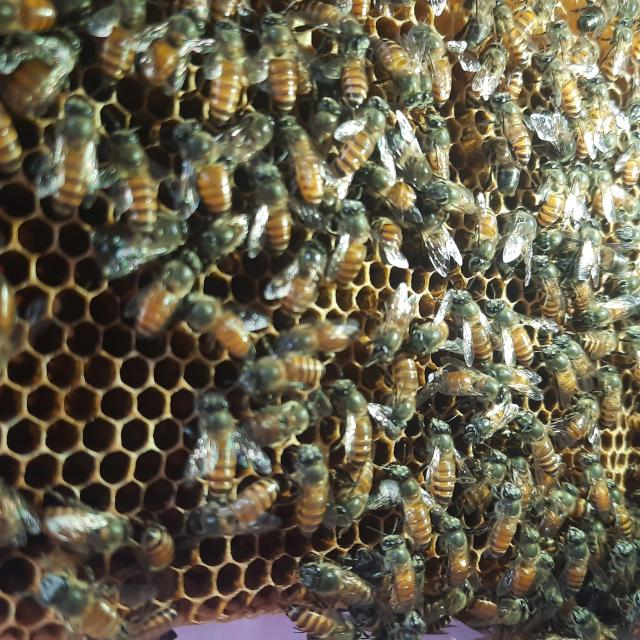honeybee: (122, 247, 219, 343), (0, 20, 92, 114), (226, 389, 327, 460), (167, 117, 235, 221), (103, 130, 169, 234), (140, 3, 210, 98), (251, 10, 314, 114), (49, 94, 99, 220), (200, 13, 252, 125), (84, 0, 144, 95), (540, 19, 596, 119), (191, 479, 277, 541), (42, 576, 120, 640), (281, 113, 327, 218), (197, 392, 239, 504), (421, 418, 466, 522), (200, 301, 266, 369), (402, 207, 458, 287), (498, 523, 556, 600), (284, 0, 366, 53), (252, 162, 298, 254), (292, 449, 340, 537), (268, 239, 317, 324), (448, 287, 498, 370), (316, 31, 370, 107), (331, 196, 372, 295), (331, 108, 384, 184), (570, 452, 621, 529), (329, 381, 374, 468), (486, 298, 538, 372), (299, 559, 377, 608), (54, 506, 127, 558), (396, 469, 440, 554), (454, 448, 505, 521), (410, 24, 455, 103), (328, 451, 374, 528), (270, 317, 354, 359), (374, 533, 421, 608), (361, 288, 408, 362), (221, 111, 277, 172), (242, 355, 322, 397), (404, 578, 470, 628), (491, 90, 534, 166), (552, 530, 600, 598), (373, 40, 420, 109), (436, 514, 476, 593), (383, 115, 429, 183), (516, 414, 566, 476), (450, 0, 495, 67), (410, 177, 478, 221), (462, 198, 498, 279), (537, 55, 588, 112), (552, 390, 602, 448), (532, 477, 582, 535), (488, 488, 530, 557), (542, 344, 583, 412), (572, 220, 606, 301), (498, 207, 534, 281), (491, 3, 531, 69), (0, 489, 40, 552), (602, 471, 638, 541), (422, 114, 457, 184), (287, 606, 359, 640), (484, 361, 540, 404), (534, 157, 564, 237), (0, 0, 61, 38), (463, 398, 513, 444), (469, 594, 536, 628), (597, 362, 632, 427), (386, 356, 415, 433), (0, 278, 25, 364), (426, 371, 497, 401), (0, 100, 28, 175), (540, 261, 575, 321), (604, 21, 638, 82), (568, 98, 602, 158), (607, 540, 640, 601), (470, 37, 500, 104), (487, 138, 522, 194), (409, 43, 438, 110), (560, 334, 596, 386), (138, 522, 175, 571), (125, 603, 172, 640), (575, 0, 616, 41), (370, 220, 399, 276), (578, 296, 640, 321), (567, 158, 589, 228), (574, 604, 615, 640), (590, 159, 612, 223), (610, 220, 640, 266), (381, 612, 429, 640), (620, 126, 640, 192), (581, 325, 616, 361), (514, 456, 537, 508)
